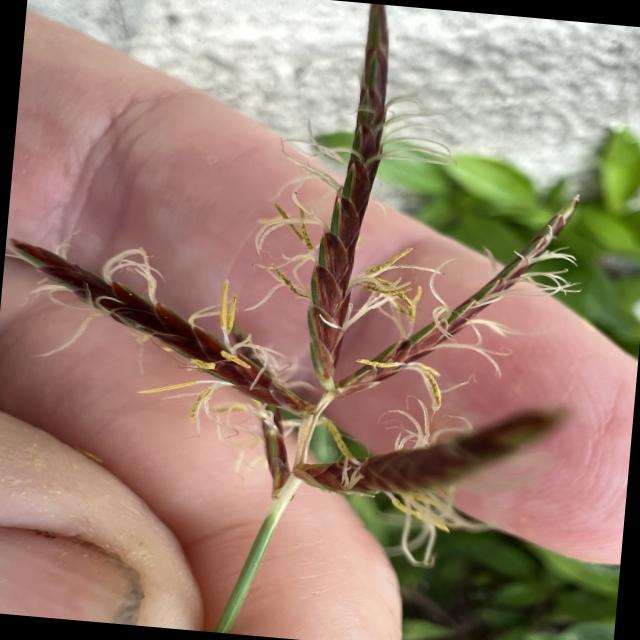cyperus: (0, 0, 612, 554)
